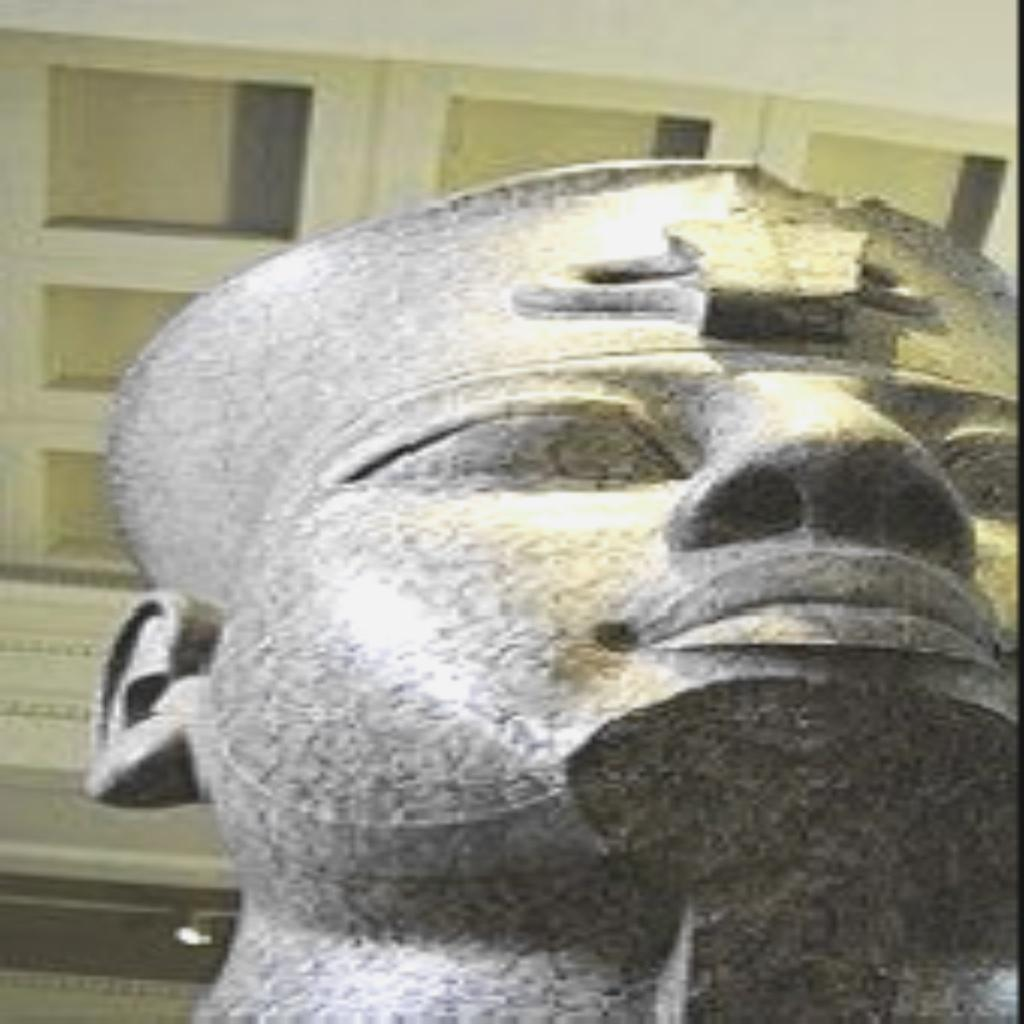Head Statue of Amenhotep iii: (84, 152, 1012, 1020)
